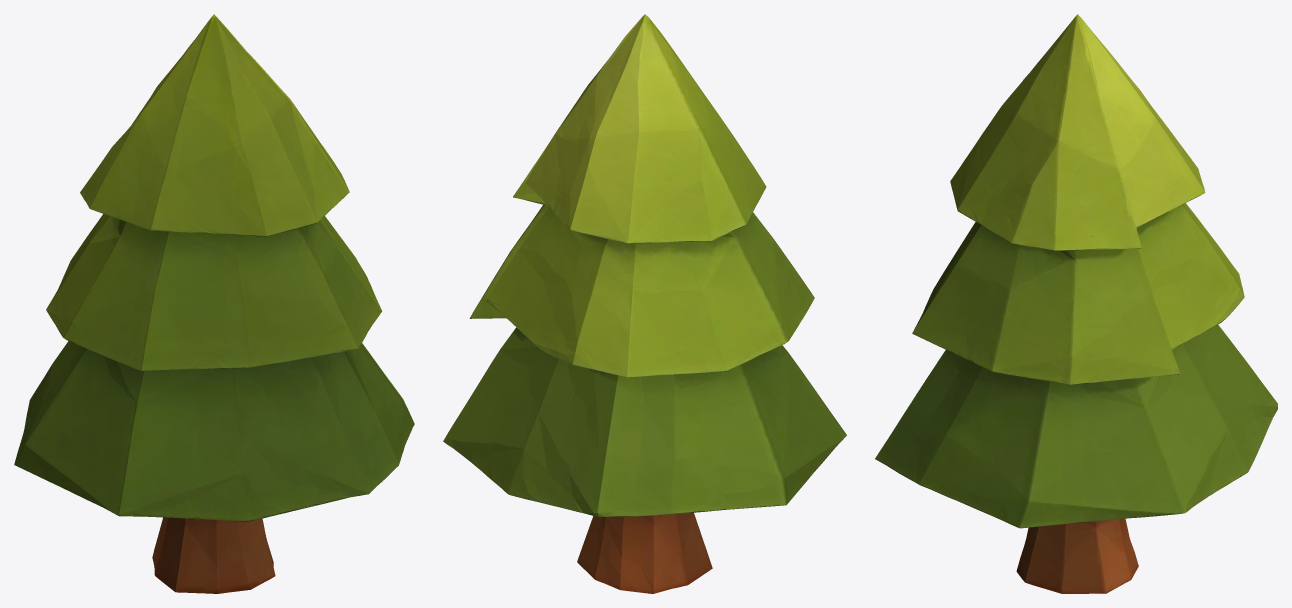
File: KeepSakeOldTreeV1.glb
3 renders of one model, left to right at view 1: azimuth 30°, elevation 25°; view 2: azimuth 150°, elevation 25°; view 3: azimuth 270°, elevation 25°, orthographic.
Visible parts, largest first — view 1: tripo_node_437ada97-cdf7-45c3-af24-5b780df254ac; view 2: tripo_node_437ada97-cdf7-45c3-af24-5b780df254ac; view 3: tripo_node_437ada97-cdf7-45c3-af24-5b780df254ac.
Part boxes in pixels (x1,y1,x2,y2): tripo_node_437ada97-cdf7-45c3-af24-5b780df254ac: (14,14,414,593); tripo_node_437ada97-cdf7-45c3-af24-5b780df254ac: (443,14,846,593); tripo_node_437ada97-cdf7-45c3-af24-5b780df254ac: (875,14,1277,593).
Size of the model in its own units: 0.6333 by 0.9808 by 0.6448.
1 material, 1 textured.
